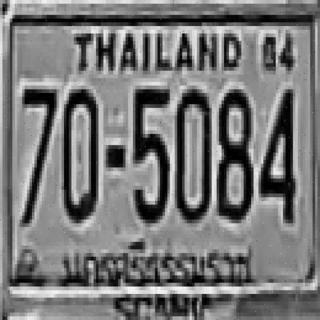N00: (62, 86, 96, 220), (175, 86, 209, 220)
N04: (258, 86, 293, 220)
N05: (132, 86, 169, 220)
N07: (18, 85, 56, 224)
N08: (214, 86, 251, 220)
P32: (54, 232, 262, 298)
